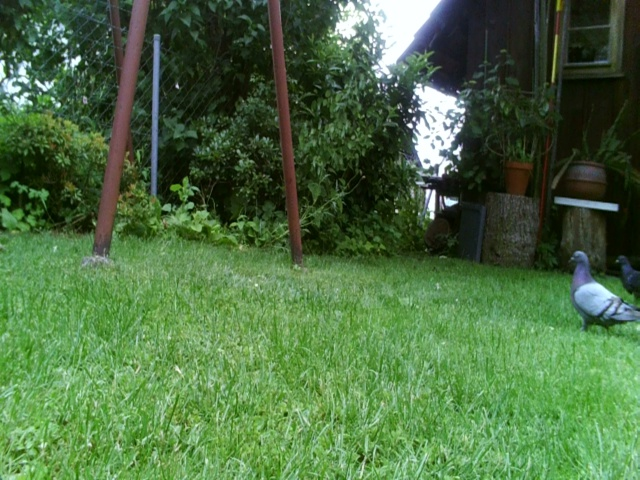Pigeon: (553, 247, 637, 344), (610, 252, 640, 295)
